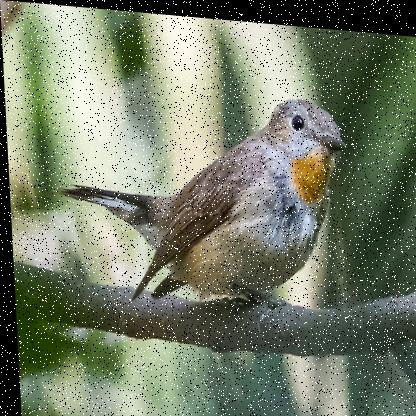Burung: (46, 79, 354, 347)
